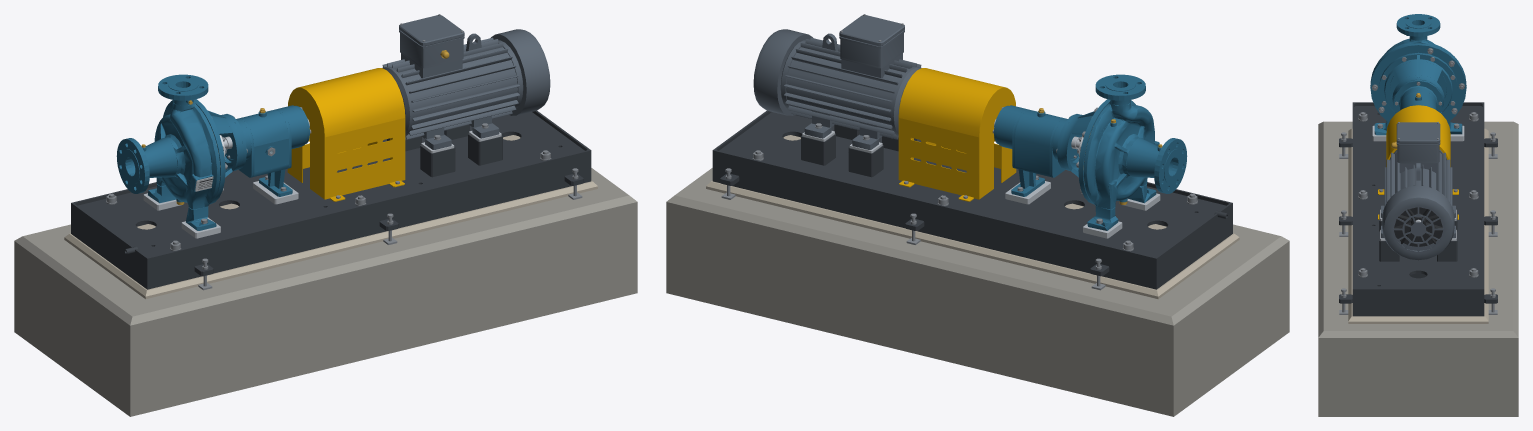
3 renders of one model, left to right at view 1: azimuth 30°, elevation 25°; view 2: azimuth 150°, elevation 25°; view 3: azimuth 270°, elevation 25°, orthographic. The views are drawn at different scales.
Visible parts, largest first — view 1: foundation, baseplate, coupling-guard, motor-frame, grout, volute-casing, bearing-housing, mounting-pads, motor-terminal-box, motor-fan-cover, suction-nozzle, discharge-nozzle (+3 smaller); view 2: foundation, baseplate, coupling-guard, motor-frame, grout, volute-casing, bearing-housing, mounting-pads, motor-terminal-box, motor-fan-cover, suction-nozzle, discharge-nozzle (+3 smaller); view 3: foundation, baseplate, motor-fan-cover, grout, bearing-frame, motor-frame, casing-cover, motor-terminal-box, coupling-guard, bearing-housing, mounting-pads, motor-fan (+6 smaller).
Boxes of the visible parts, left/top/right/bottom form: foundation: left=14, top=168, right=637, bottom=416; baseplate: left=71, top=110, right=591, bottom=289; coupling-guard: left=287, top=68, right=405, bottom=201; motor-frame: left=382, top=33, right=519, bottom=149; grout: left=64, top=135, right=597, bottom=299; volute-casing: left=154, top=100, right=220, bottom=209; bearing-housing: left=224, top=105, right=307, bottom=196; mounting-pads: left=143, top=125, right=502, bottom=238; motor-terminal-box: left=399, top=14, right=464, bottom=68; motor-fan-cover: left=491, top=29, right=550, bottom=115; suction-nozzle: left=116, top=138, right=177, bottom=193; discharge-nozzle: left=158, top=74, right=208, bottom=105; foundation: left=666, top=168, right=1289, bottom=416; baseplate: left=712, top=110, right=1232, bottom=289; coupling-guard: left=898, top=68, right=1016, bottom=201; motor-frame: left=784, top=33, right=921, bottom=149; grout: left=706, top=135, right=1239, bottom=299; volute-casing: left=1083, top=100, right=1159, bottom=209; bearing-housing: left=996, top=105, right=1079, bottom=196; mounting-pads: left=801, top=125, right=1160, bottom=238; motor-terminal-box: left=839, top=14, right=904, bottom=68; motor-fan-cover: left=753, top=29, right=812, bottom=115; suction-nozzle: left=1126, top=138, right=1187, bottom=193; discharge-nozzle: left=1095, top=74, right=1145, bottom=105; foundation: left=1318, top=121, right=1518, bottom=416; baseplate: left=1339, top=102, right=1497, bottom=316; motor-fan-cover: left=1382, top=185, right=1454, bottom=260; grout: left=1348, top=128, right=1488, bottom=323; bearing-frame: left=1379, top=52, right=1457, bottom=116; motor-frame: left=1381, top=150, right=1455, bottom=238; casing-cover: left=1370, top=43, right=1466, bottom=122; motor-terminal-box: left=1391, top=122, right=1440, bottom=163; coupling-guard: left=1378, top=105, right=1458, bottom=219; bearing-housing: left=1393, top=79, right=1443, bottom=112; mounting-pads: left=1372, top=125, right=1464, bottom=261; motor-fan: left=1394, top=207, right=1442, bottom=246.
Bounding box in the file's own units: 1.92 × 0.95 × 0.76.
